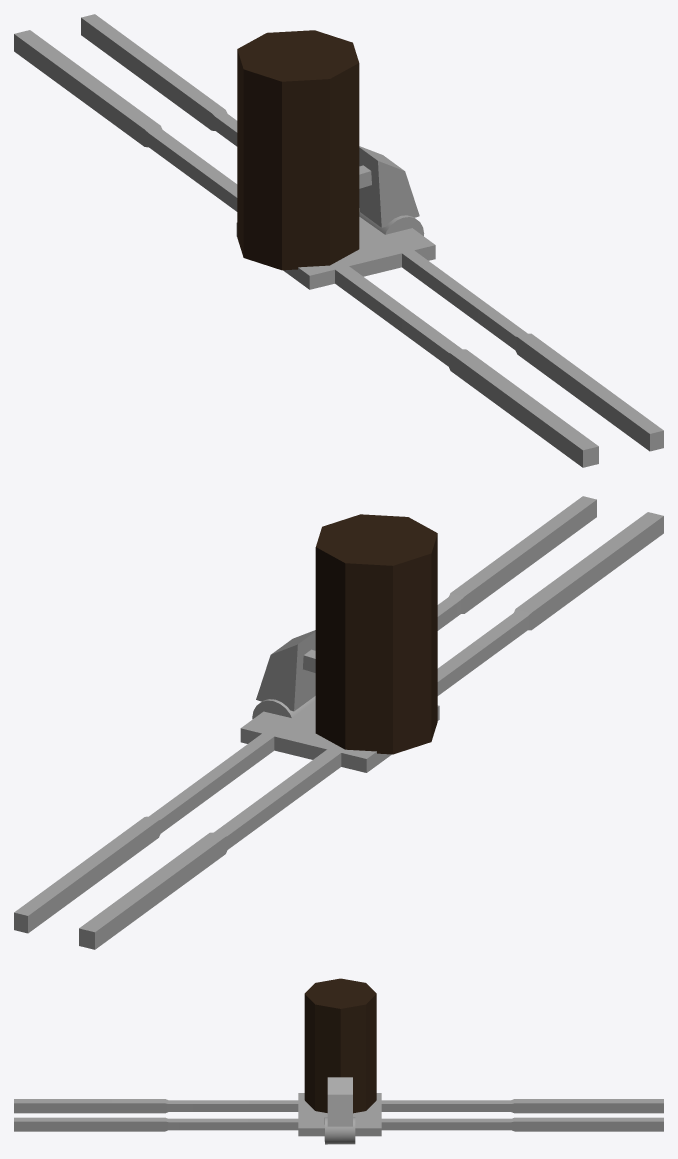
The model's file is balvan1.fbx.
3 renders of one model, top to bottom at view 1: azimuth 30°, elevation 25°; view 2: azimuth 150°, elevation 25°; view 3: azimuth 270°, elevation 25°, orthographic. The views are drawn at different scales.
Parts seen in each view (by area): view 1: pCube79, pCylinder7, pCube78; view 2: pCube79, pCylinder7, pCube78; view 3: pCube79, pCylinder7, pCube78.
Boxes of the visible parts, left/top/right/bottom form: pCube79: left=14, top=14, right=663, bottom=467; pCylinder7: left=237, top=30, right=359, bottom=270; pCube78: left=359, top=146, right=419, bottom=227; pCube79: left=14, top=496, right=663, bottom=949; pCylinder7: left=315, top=514, right=437, bottom=754; pCube78: left=256, top=630, right=315, bottom=711; pCube79: left=14, top=1093, right=663, bottom=1144; pCylinder7: left=304, top=978, right=376, bottom=1113; pCube78: left=327, top=1077, right=352, bottom=1126.
Bounding box in the file's own units: 0.00438 × 0.00545 × 0.0259.
